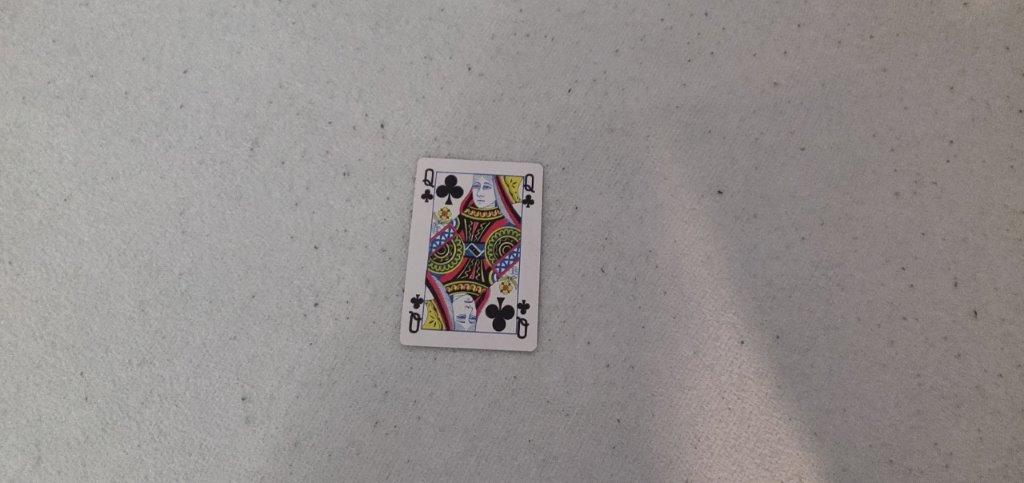QC: (418, 165, 437, 205), (520, 171, 537, 211)
